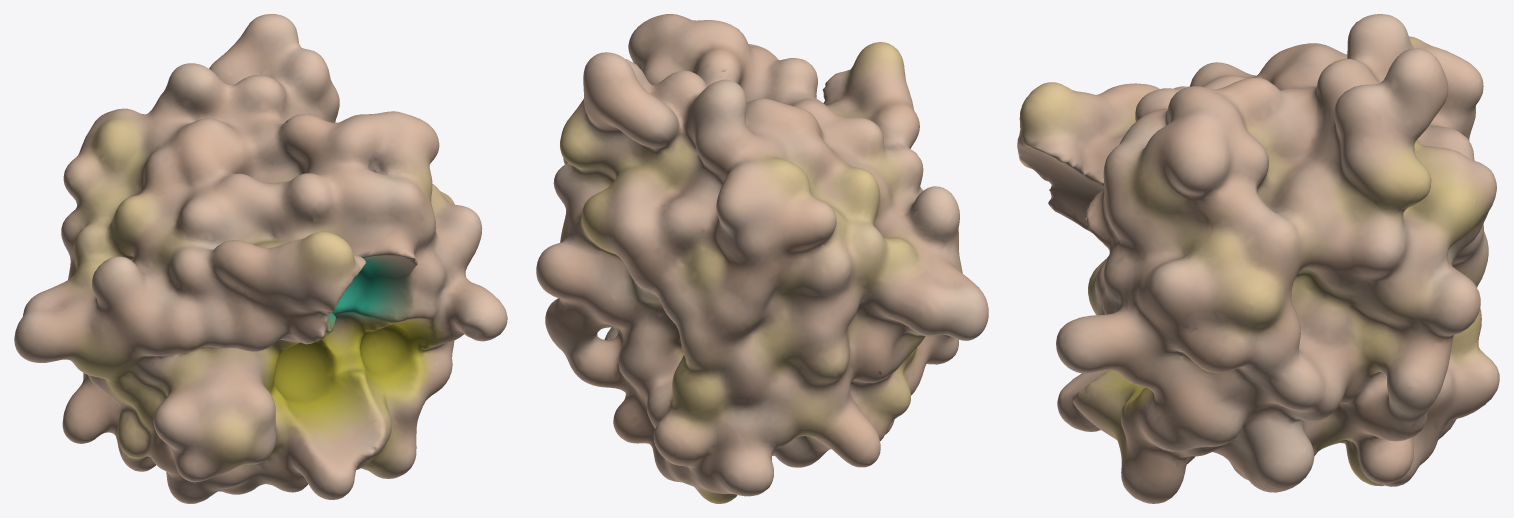
Rendered from trombina_facil.glb.
3 views of the same model, side by side, from view 1: azimuth 30°, elevation 25°; view 2: azimuth 150°, elevation 25°; view 3: azimuth 270°, elevation 25° (orthographic). The views are drawn at different scales.
Parts seen in each view (by area): view 1: geometry_0; view 2: geometry_0; view 3: geometry_0.
Part boxes in pixels (x1=…): geometry_0: x1=14, y1=14, x2=507, y2=503; geometry_0: x1=536, y1=14, x2=988, y2=503; geometry_0: x1=1017, y1=14, x2=1499, y2=503.
Size of the model in its own units: 0.5235 by 0.4957 by 0.4486.
